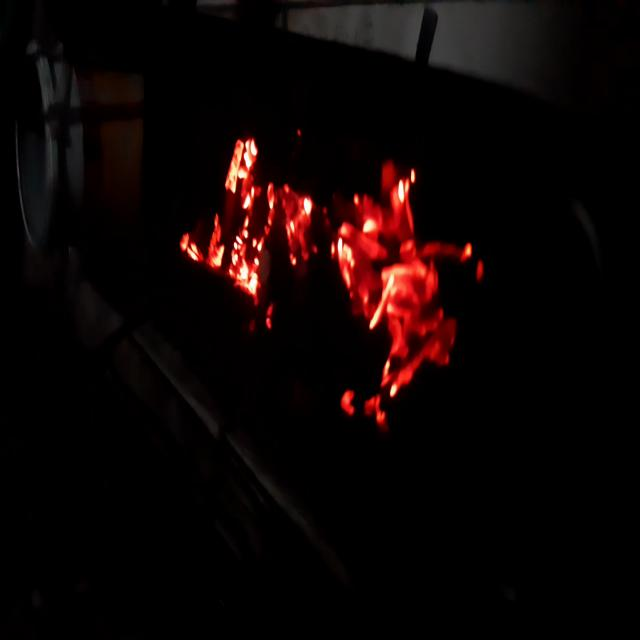Fire: (167, 117, 488, 440)
